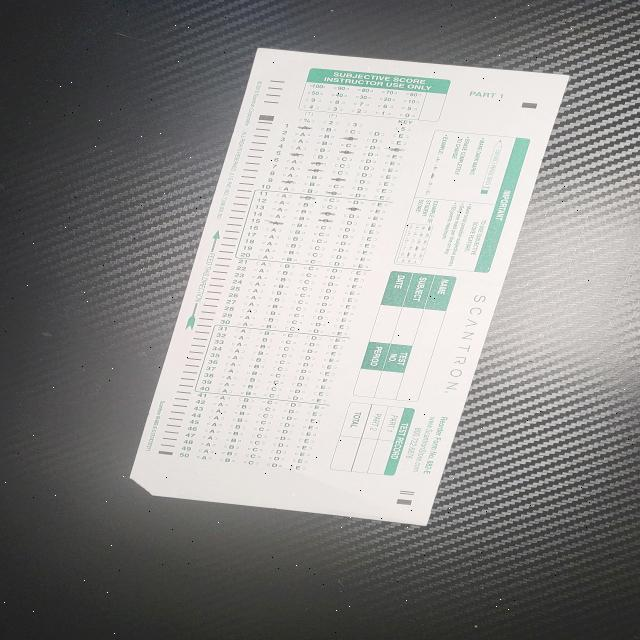scantron: (130, 48, 571, 527)
